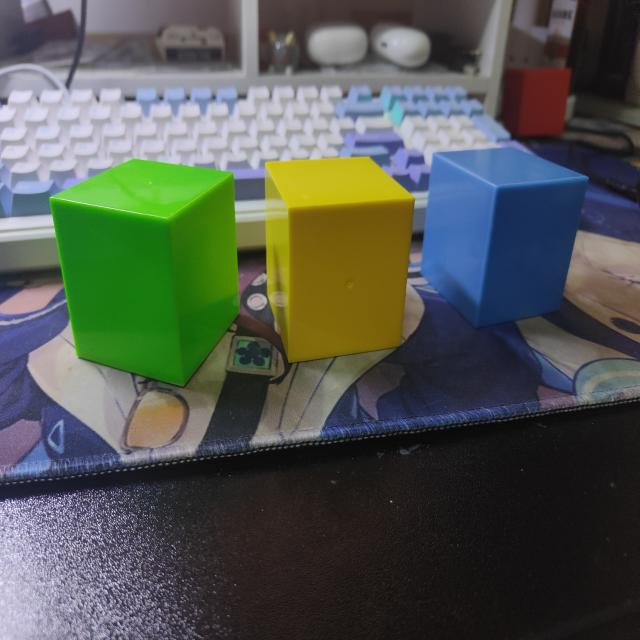blue: (421, 143, 588, 331)
green: (48, 159, 238, 390)
yellow: (265, 157, 414, 366)
